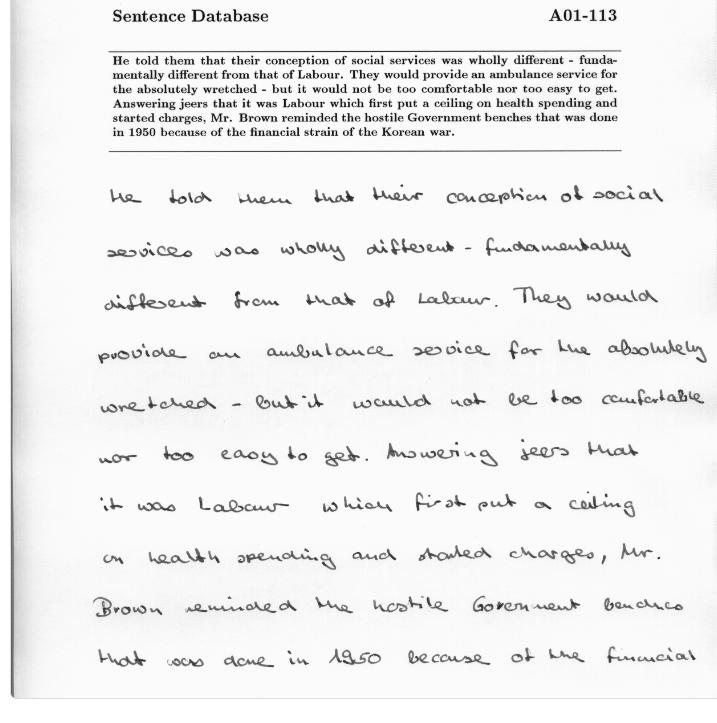text: (94, 337, 707, 368), (98, 385, 708, 416), (97, 486, 639, 520), (95, 436, 641, 469), (100, 540, 663, 572), (100, 283, 660, 315), (88, 593, 686, 622), (105, 234, 633, 265), (93, 644, 699, 670), (107, 180, 666, 207), (111, 96, 618, 113), (110, 68, 618, 83), (111, 82, 619, 97), (112, 53, 619, 67), (111, 112, 618, 126), (111, 126, 456, 140), (110, 7, 271, 24), (546, 6, 618, 24)
